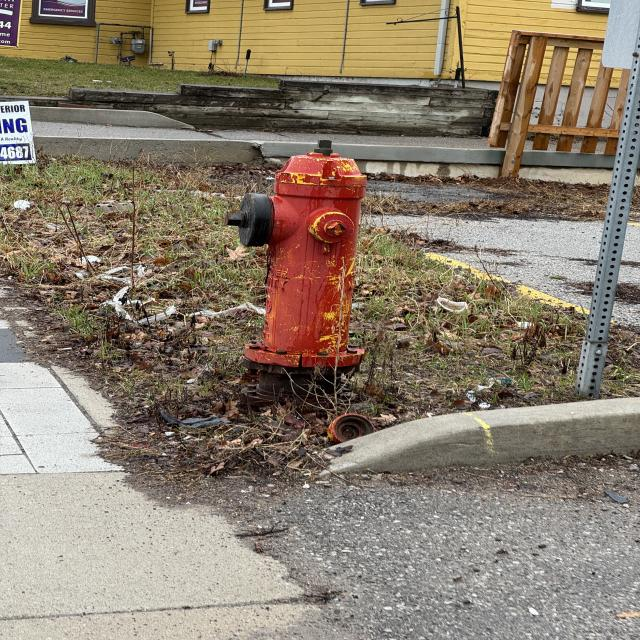Fire hydrant: (225, 139, 373, 375)
